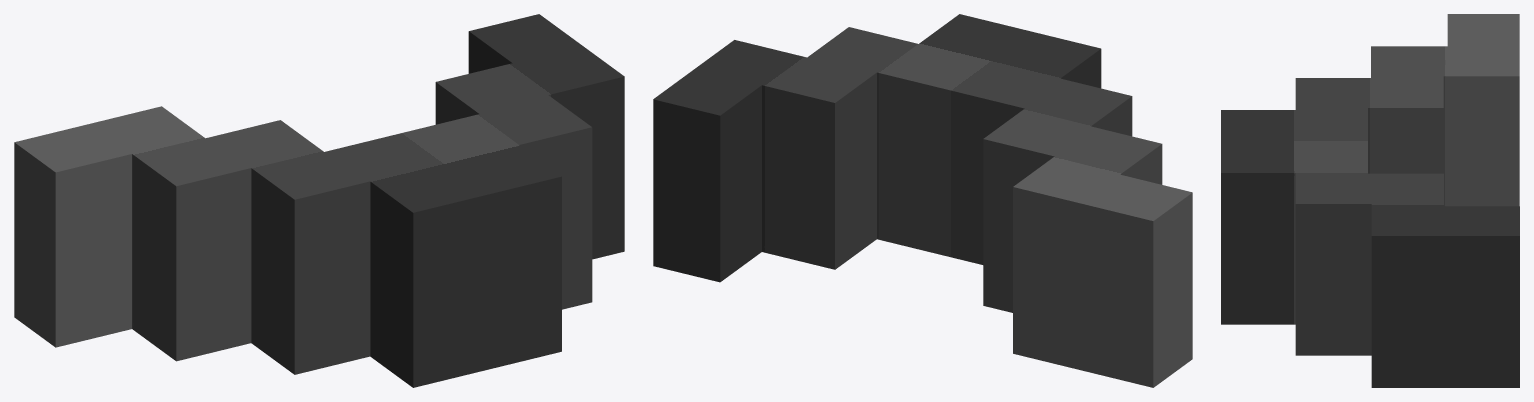
File: garbage_415x18.gltf
The picture shows the model from 3 angles, left to right: view 1: azimuth 30°, elevation 25°; view 2: azimuth 150°, elevation 25°; view 3: azimuth 270°, elevation 25°; orthographic projection. The views are drawn at different scales.
Parts seen in each view (by area): view 1: garbage_415x18; view 2: garbage_415x18; view 3: garbage_415x18.
Boxes of the visible parts, x1,y1,x2,y2 form: garbage_415x18: (14,14,624,387); garbage_415x18: (653,14,1192,387); garbage_415x18: (1221,14,1519,387).
Size of the model in its own units: 0.4326 by 0.1379 by 0.2458.
1 material, 1 textured.
